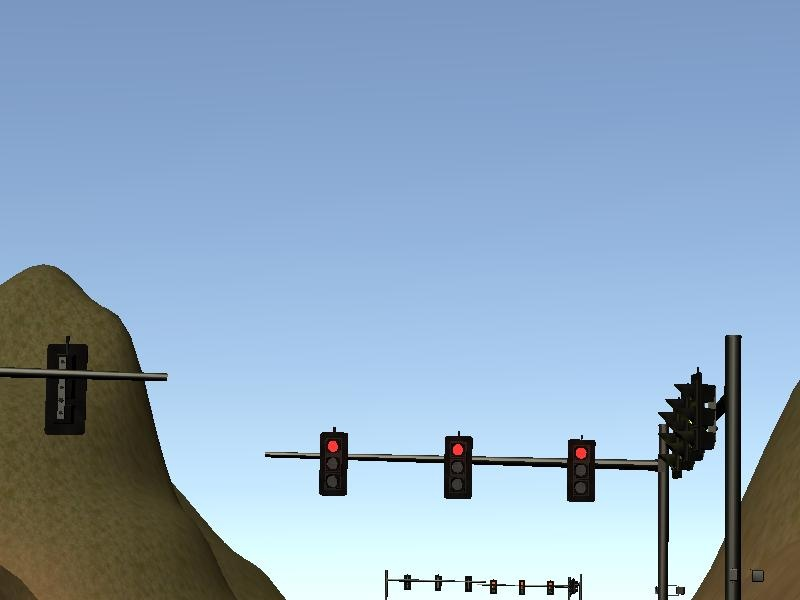red: (439, 434, 475, 503), (318, 428, 351, 500), (566, 438, 600, 502)
